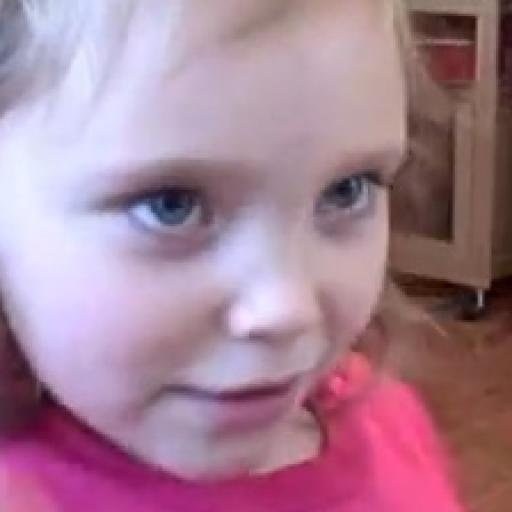Autism: (16, 5, 440, 512)
